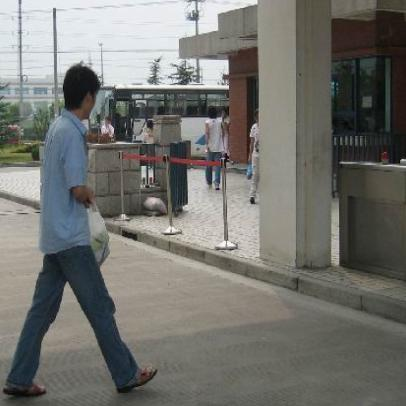ped: (5, 65, 158, 395), (209, 106, 227, 189)
